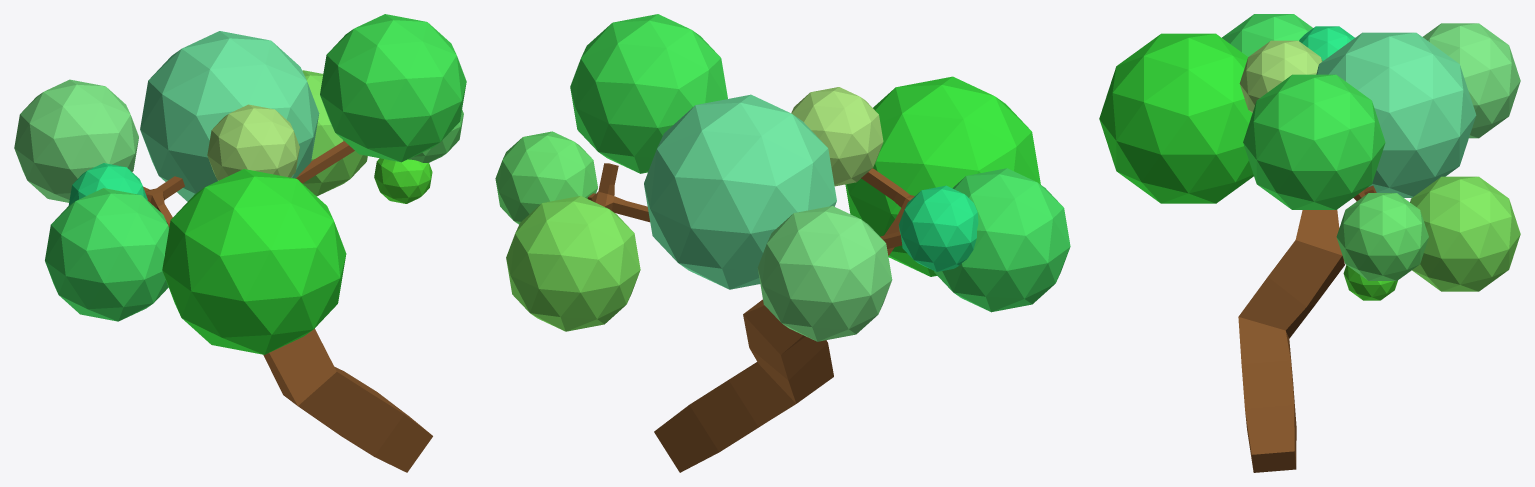
File: LowPolyOak2.fbx
3 views of the same model, side by side, from view 1: azimuth 30°, elevation 25°; view 2: azimuth 150°, elevation 25°; view 3: azimuth 270°, elevation 25° (orthographic). The views are drawn at different scales.
Parts seen in each view (by area): view 1: Icosphere.001, Icosphere.003, Icosphere.009, Icosphere, Cube, Icosphere.005, Icosphere.002, Icosphere.006, Icosphere.007, Icosphere.004, Icosphere.008; view 2: Icosphere.003, Icosphere.009, Icosphere.001, Cube, Icosphere.005, Icosphere.006, Icosphere, Icosphere.008, Icosphere.002, Icosphere.004; view 3: Icosphere.001, Icosphere.003, Icosphere.009, Cube, Icosphere.006, Icosphere.008, Icosphere.005, Icosphere.002, Icosphere, Icosphere.004, Icosphere.007.
Boxes of the visible parts, left/top/right/bottom form: Icosphere.001: left=162, top=169, right=346, bottom=354; Icosphere.003: left=140, top=31, right=319, bottom=201; Icosphere.009: left=320, top=14, right=466, bottom=162; Icosphere: left=45, top=188, right=169, bottom=321; Cube: left=143, top=140, right=432, bottom=472; Icosphere.005: left=14, top=79, right=138, bottom=202; Icosphere.002: left=207, top=104, right=299, bottom=180; Icosphere.006: left=302, top=70, right=367, bottom=196; Icosphere.007: left=374, top=158, right=432, bottom=203; Icosphere.004: left=68, top=163, right=147, bottom=205; Icosphere.008: left=408, top=109, right=463, bottom=162; Icosphere.003: left=644, top=94, right=836, bottom=289; Icosphere.009: left=570, top=14, right=727, bottom=173; Icosphere.001: left=845, top=76, right=1040, bottom=276; Cube: left=587, top=163, right=914, bottom=472; Icosphere.005: left=757, top=206, right=892, bottom=341; Icosphere.006: left=506, top=196, right=640, bottom=331; Icosphere: left=934, top=168, right=1070, bottom=312; Icosphere.008: left=495, top=131, right=597, bottom=224; Icosphere.002: left=791, top=87, right=883, bottom=186; Icosphere.004: left=898, top=185, right=978, bottom=271; Icosphere.001: left=1099, top=33, right=1253, bottom=203; Icosphere.003: left=1316, top=32, right=1476, bottom=197; Icosphere.009: left=1243, top=74, right=1385, bottom=209; Cube: left=1238, top=185, right=1376, bottom=472; Icosphere.006: left=1410, top=176, right=1520, bottom=291; Icosphere.008: left=1336, top=193, right=1428, bottom=280; Icosphere.005: left=1423, top=23, right=1520, bottom=138; Icosphere.002: left=1239, top=40, right=1322, bottom=112; Icosphere: left=1222, top=14, right=1312, bottom=56; Icosphere.004: left=1299, top=26, right=1354, bottom=61; Icosphere.007: left=1343, top=265, right=1397, bottom=300.
Bounding box in the file's own units: 564 × 499 × 473.
